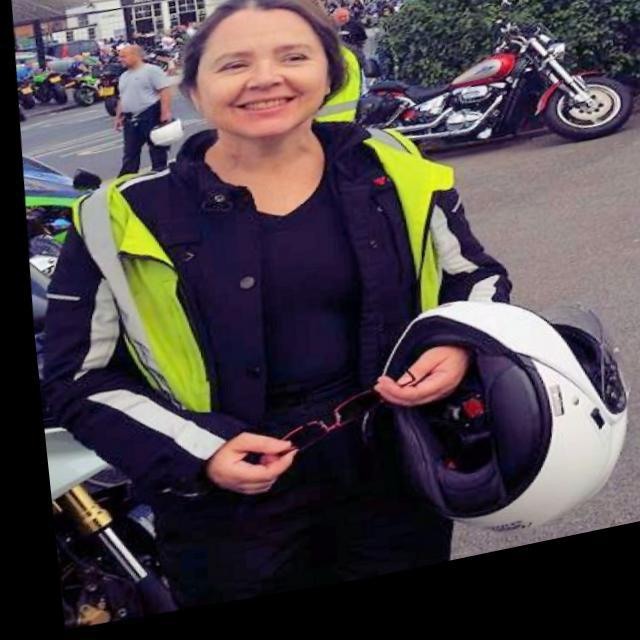Nonhelmet: (174, 0, 349, 142)
